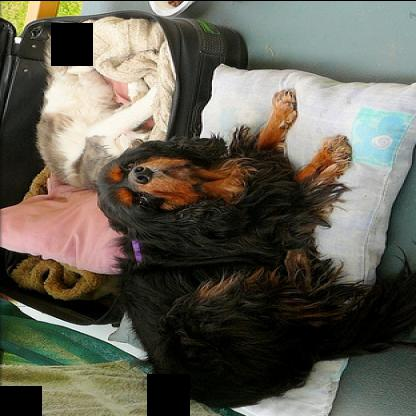suitcase: (0, 11, 240, 325)
